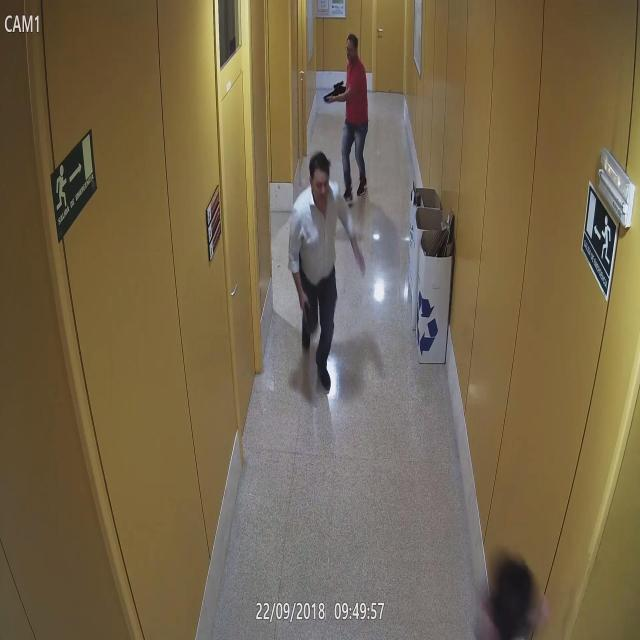pistol: (299, 296, 314, 345), (320, 80, 346, 108)
